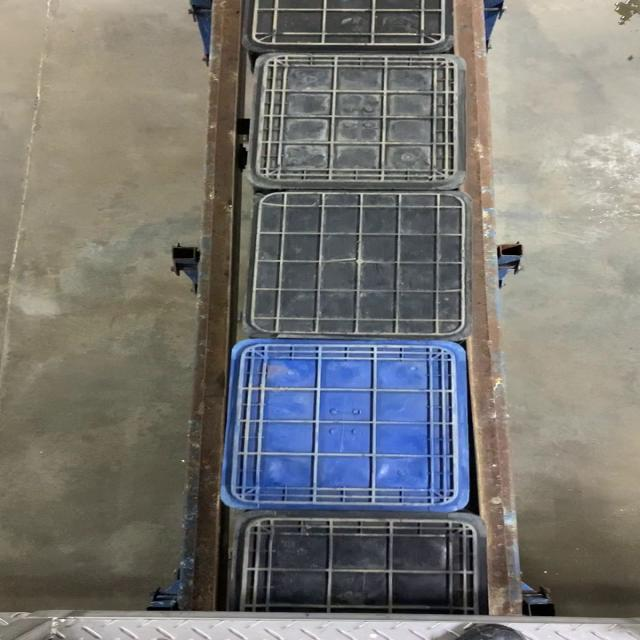Box: (216, 340, 472, 514), (245, 189, 474, 339), (243, 51, 467, 189)
